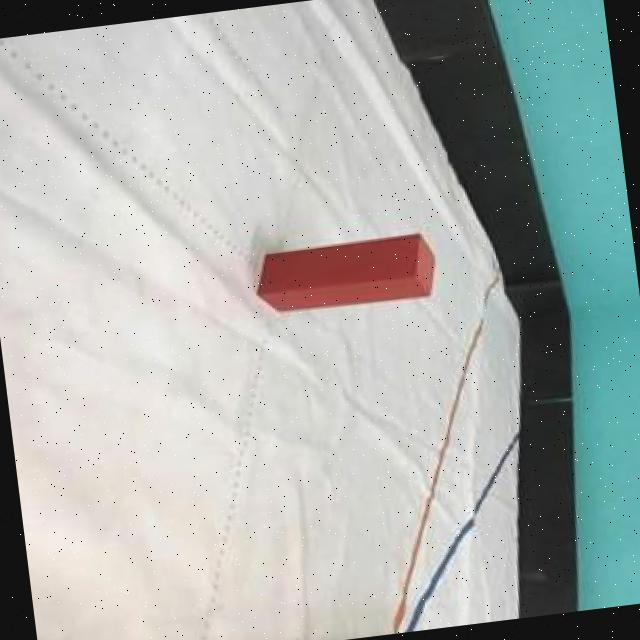redbox: (252, 228, 438, 316)
